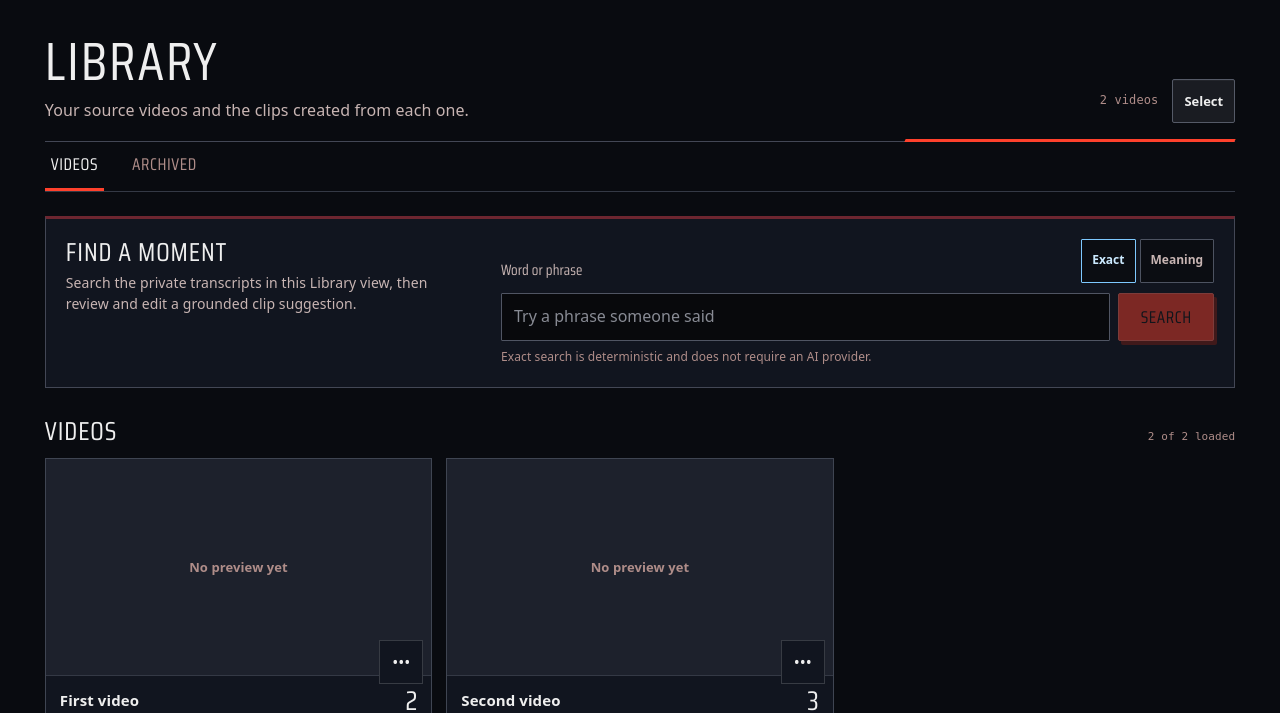
Test: Library video actions › keeps an individual delete retryable without entering selection mode
Expected: the heading "First video" is shown, [60,690,139,710]
What coordinates should you click on to do the following:
click the button named "More actions for First video"
I would click on:
 (401, 662)
Its box is [379,640,423,684].
(page scrolled)
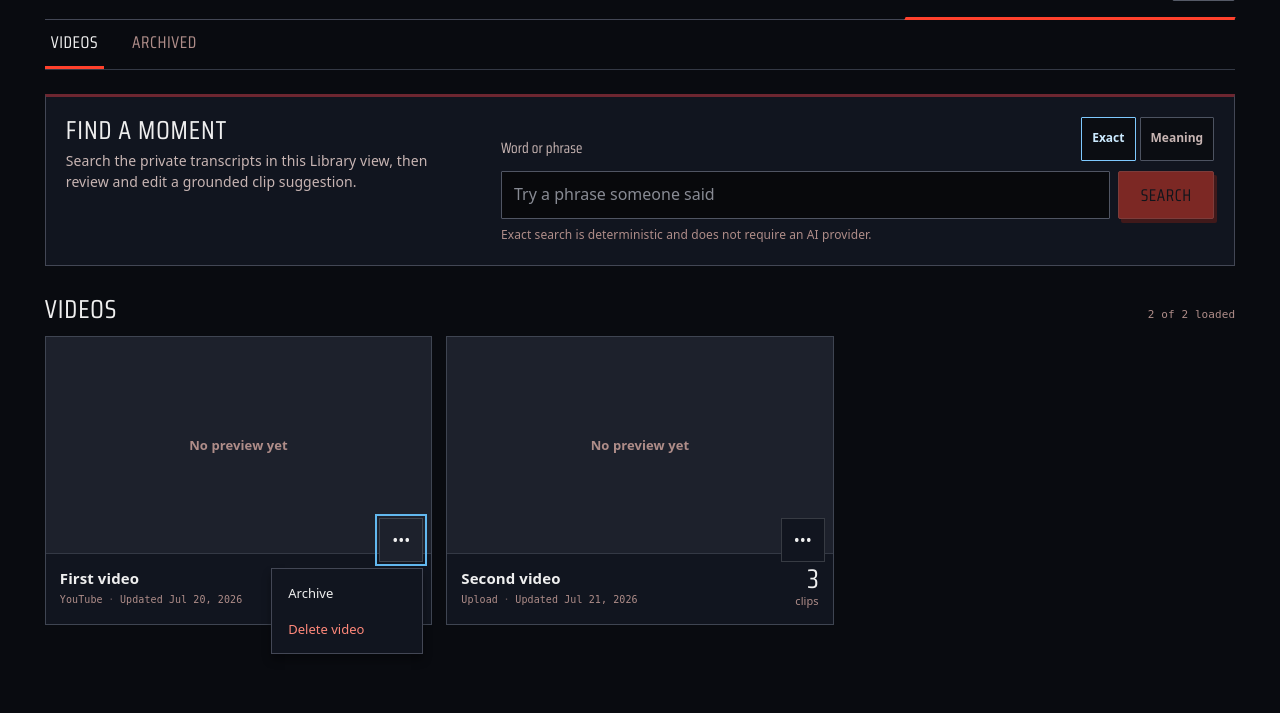
What coordinates should you click on to do the following:
click the button "Delete video"
I would click on:
 (347, 629)
Its box is [278,611,416,647].
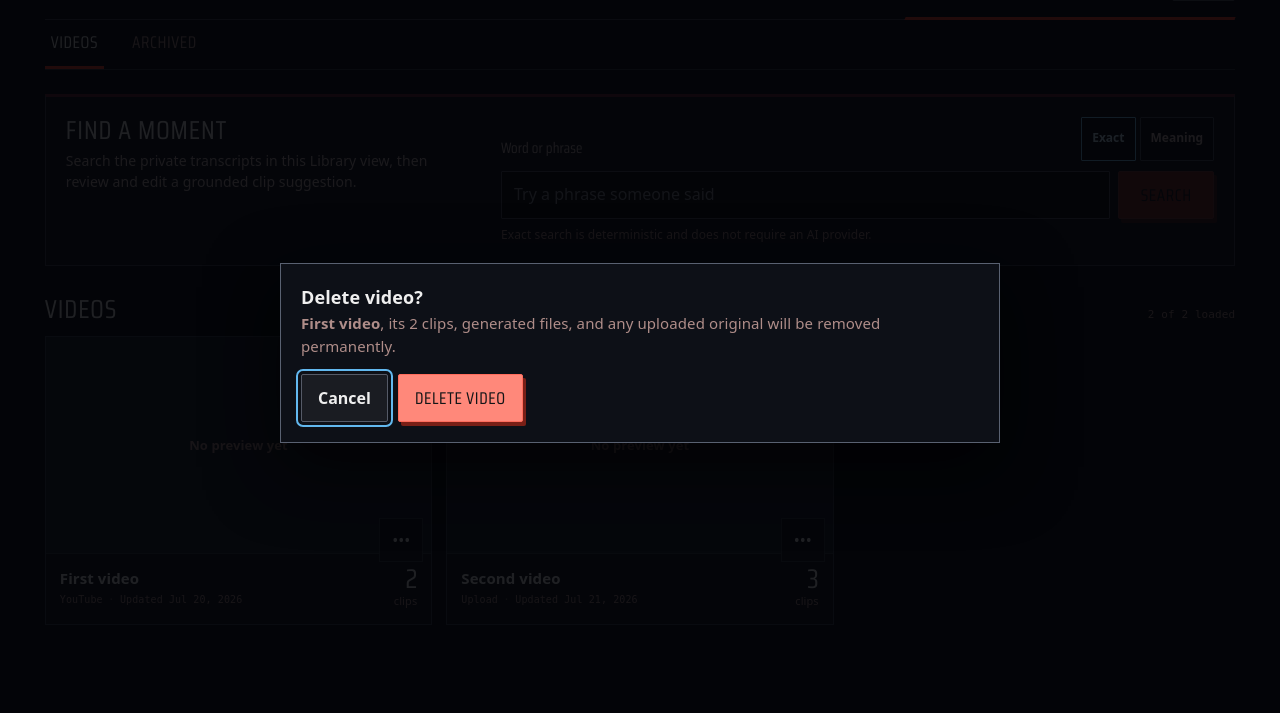
Result: the heading "Delete video?" is shown at [301,285,423,309]
What coordinates should you click on to do the following:
click the button "Delete video"
I would click on:
 (460, 398)
Its box is [398,374,522,422].
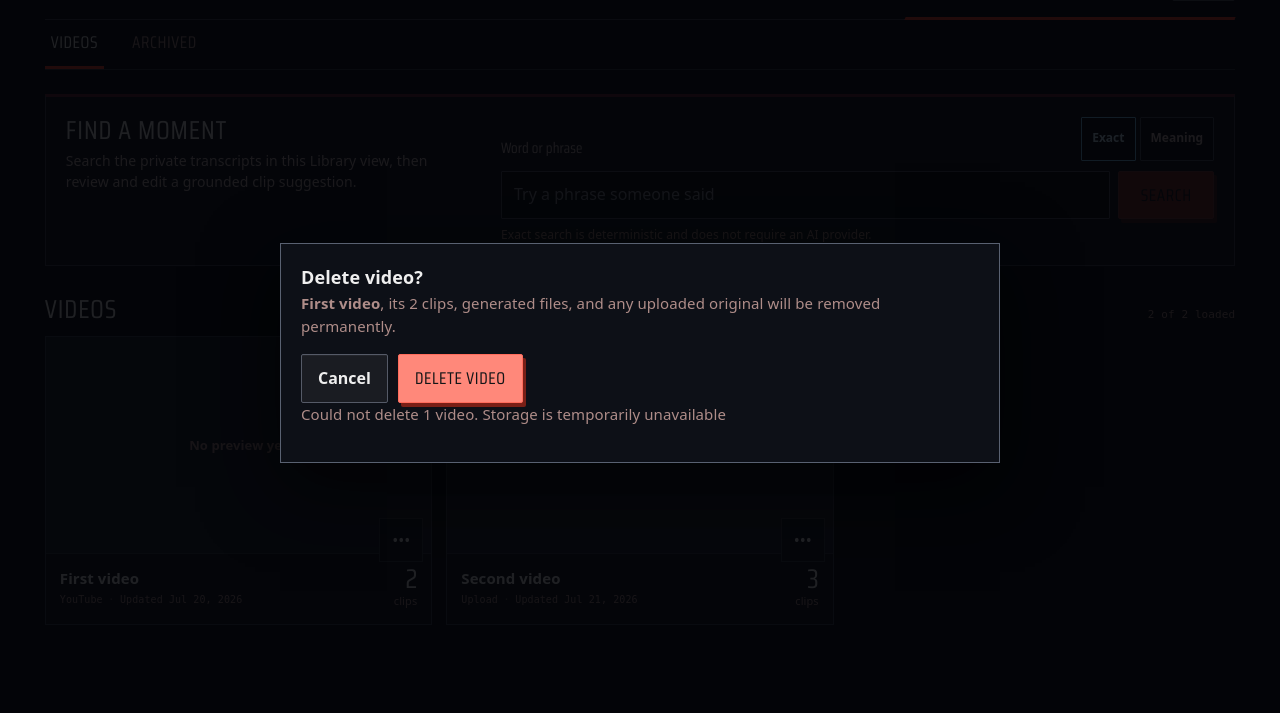
Expected: the link with aria-label "Open First video, 2 clips" is shown, [46,337,431,624]
Result: the message shows "Could not delete 1 video." at [301,404,726,424]
What coordinates should you click on to do the following:
click the button "Delete video"
I would click on:
 (460, 379)
Its box is [398,354,522,403].
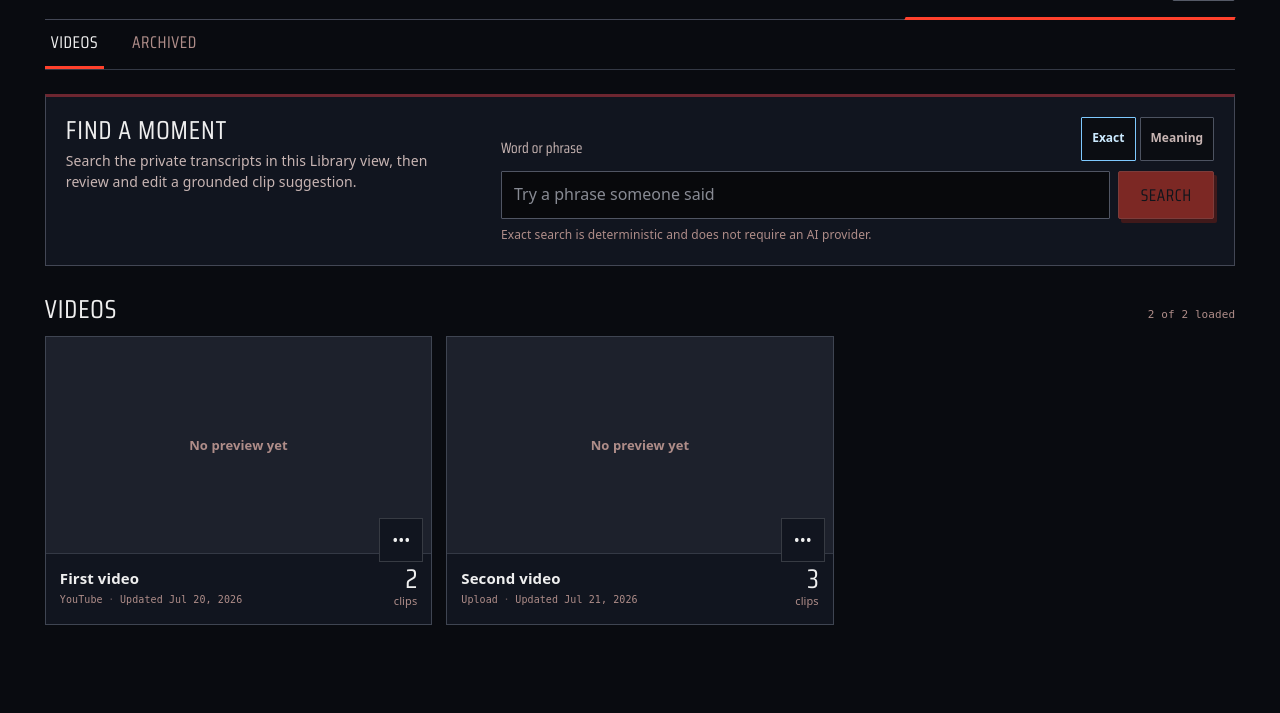
Result: the heading "Delete video?" is gone
